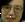without_mask: (1, 2, 25, 22)
